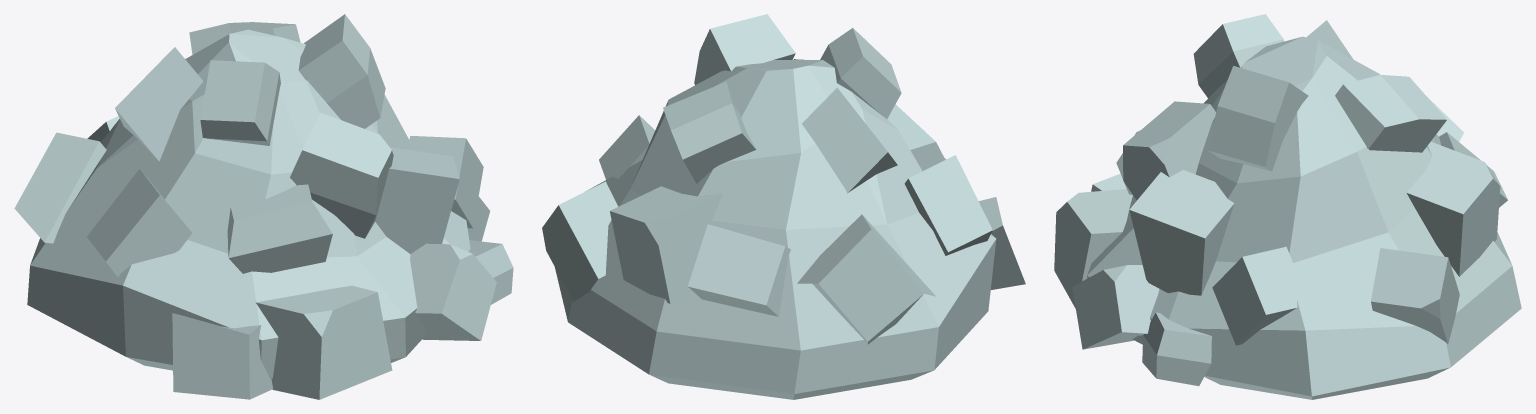
The model's file is salt.fbx.
3 views of the same model, side by side, from view 1: azimuth 30°, elevation 25°; view 2: azimuth 150°, elevation 25°; view 3: azimuth 270°, elevation 25° (orthographic). The views are drawn at different scales.
Visible parts, largest first — view 1: salt; view 2: salt; view 3: salt.
Boxes of the visible parts, bbox=[...] form: salt: bbox=[14, 14, 513, 399]; salt: bbox=[542, 14, 1025, 399]; salt: bbox=[1054, 14, 1521, 399].
Bounding box in the file's own units: 0.3274 × 0.2051 × 0.3122.
